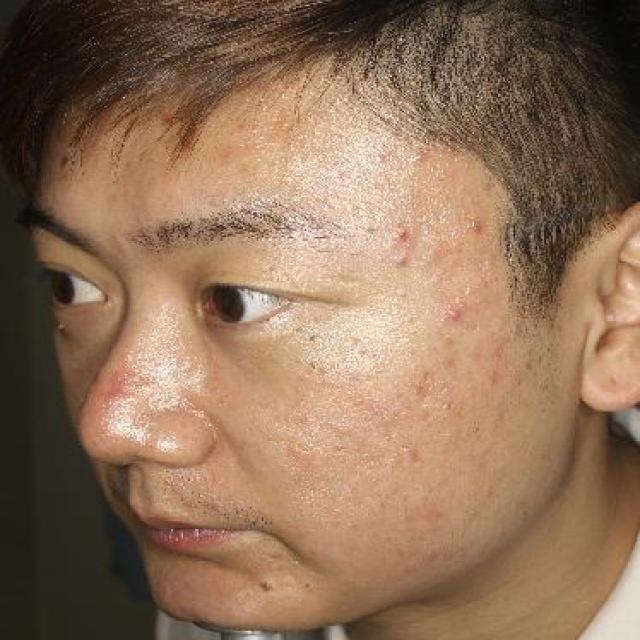pustules: (438, 303, 471, 325), (252, 575, 282, 594), (467, 214, 493, 234), (368, 149, 392, 168), (411, 149, 433, 166), (395, 228, 416, 245), (394, 252, 414, 268)
